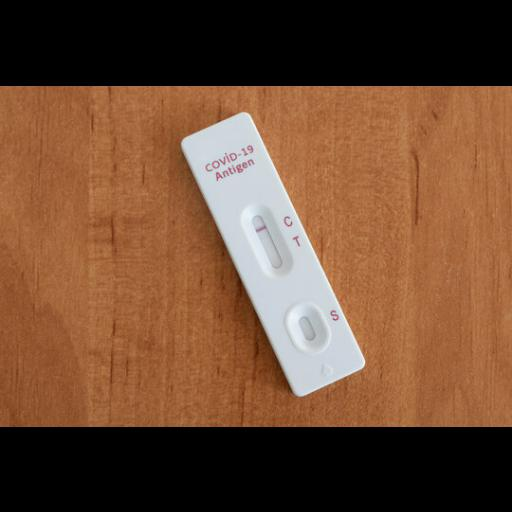Neg: (182, 108, 367, 396)
